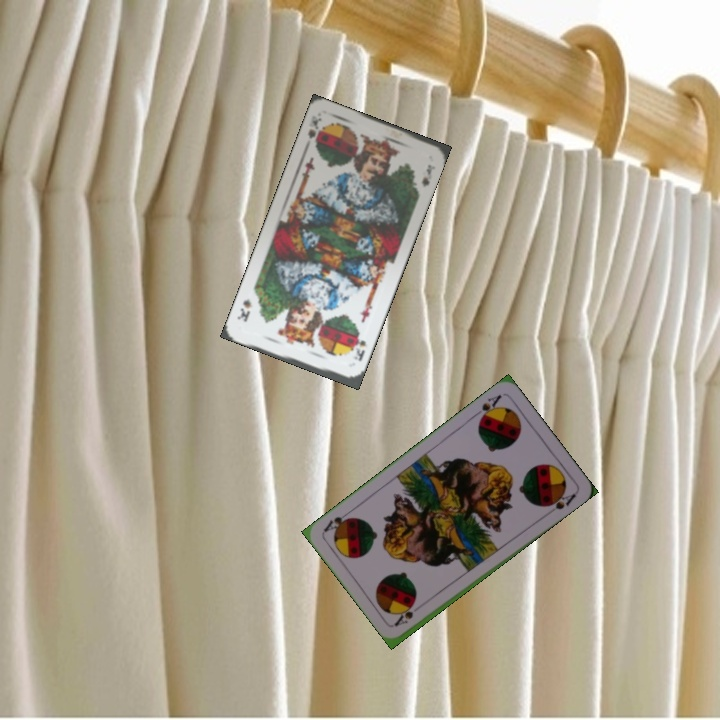SA: (469, 390, 505, 425), (391, 607, 416, 629)
SK: (348, 329, 369, 364), (304, 114, 324, 150)
